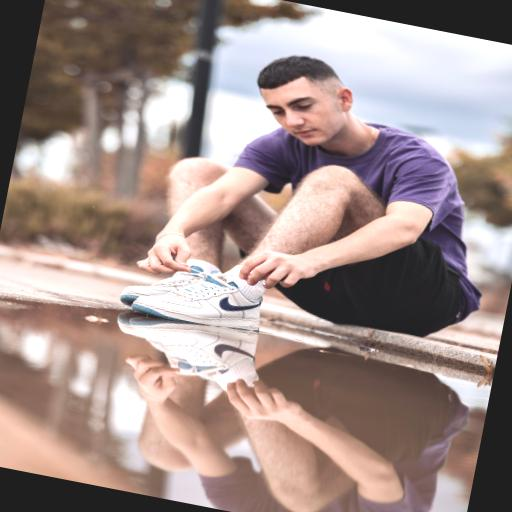shoe: (117, 311, 257, 388), (131, 272, 261, 330), (119, 265, 206, 306)
